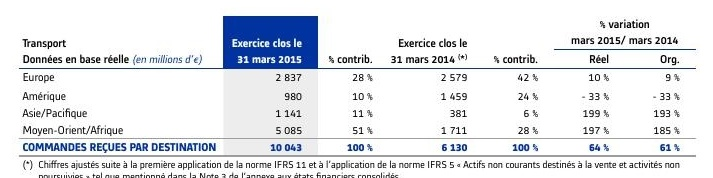table: (0, 0, 713, 178)
